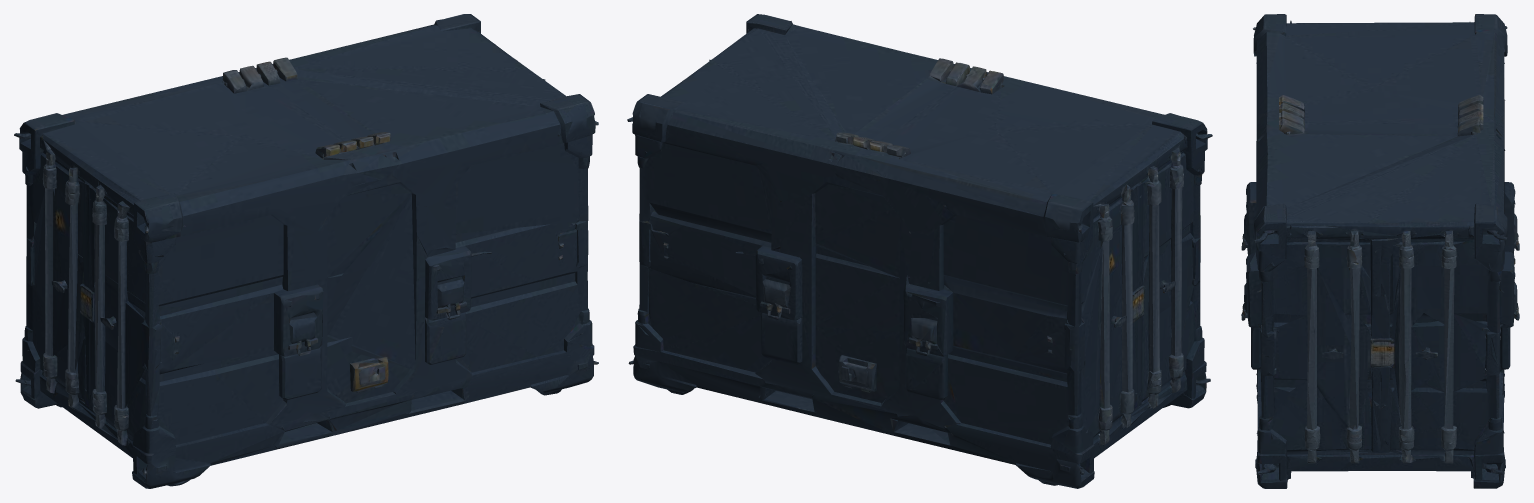
File: cargo-container.glb
3 renders of one model, left to right at view 1: azimuth 30°, elevation 25°; view 2: azimuth 150°, elevation 25°; view 3: azimuth 270°, elevation 25°, orthographic. The views are drawn at different scales.
Parts seen in each view (by area): view 1: mesh_node; view 2: mesh_node; view 3: mesh_node.
Boxes of the visible parts, x1=… form: mesh_node: x1=14, y1=14, x2=598, y2=488; mesh_node: x1=627, y1=14, x2=1212, y2=488; mesh_node: x1=1241, y1=14, x2=1519, y2=488.
Size of the model in its own units: 1.91 by 1.18 by 1.05.
Materials: 1 (1 with a texture image).
